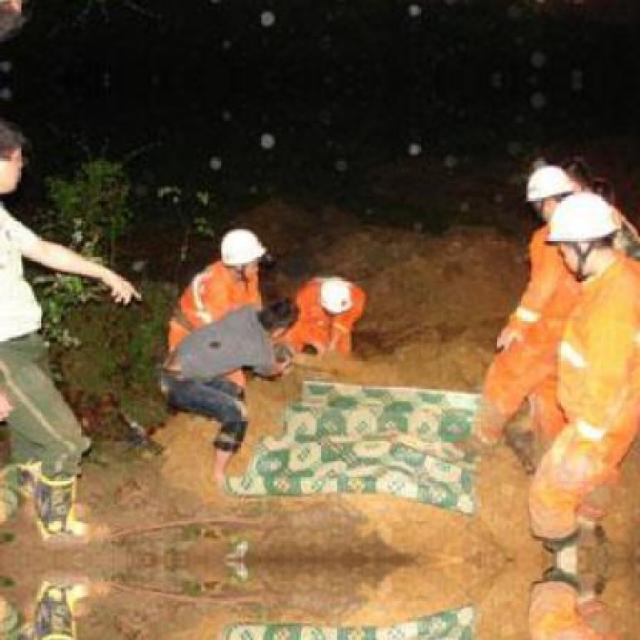Reflective-Jacket: (544, 250, 640, 375), (163, 258, 271, 352), (286, 269, 372, 365)
Safety-Helmet: (542, 188, 629, 252), (512, 157, 586, 214), (210, 221, 272, 274)
